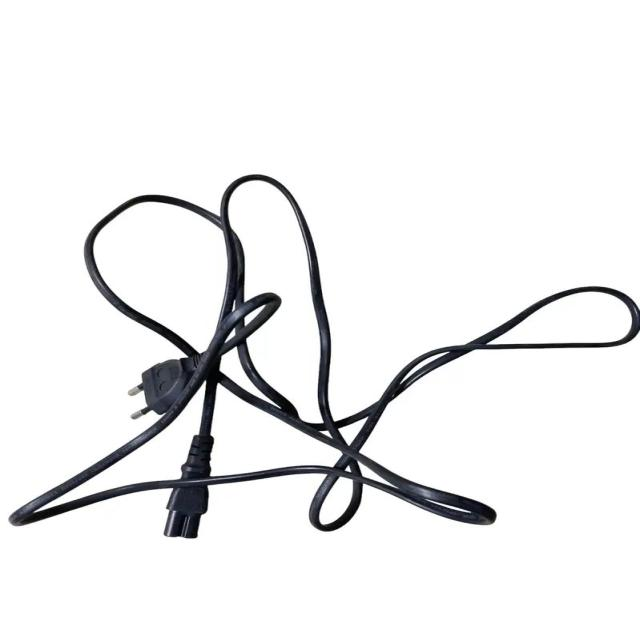electronic: (7, 172, 638, 539)
